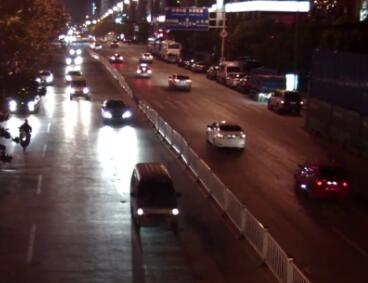bus: (153, 35, 182, 63), (145, 34, 158, 56)
car: (127, 162, 183, 235), (292, 159, 357, 205), (204, 119, 247, 151), (250, 65, 287, 100), (98, 97, 134, 126), (216, 58, 255, 84), (266, 88, 302, 116), (7, 92, 41, 116), (222, 70, 256, 88), (67, 80, 90, 101), (167, 73, 192, 90), (64, 69, 85, 86), (36, 67, 54, 85), (134, 61, 153, 78), (188, 60, 209, 72), (204, 65, 223, 78), (137, 50, 154, 63), (65, 45, 82, 57), (108, 51, 124, 62), (183, 57, 201, 66), (90, 41, 104, 51), (108, 40, 120, 47)
